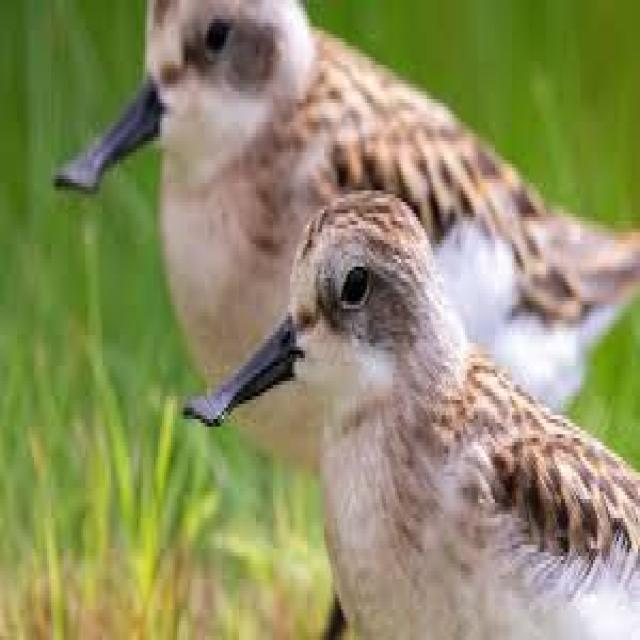Sandpiper: (185, 200, 640, 640), (57, 0, 640, 335)
